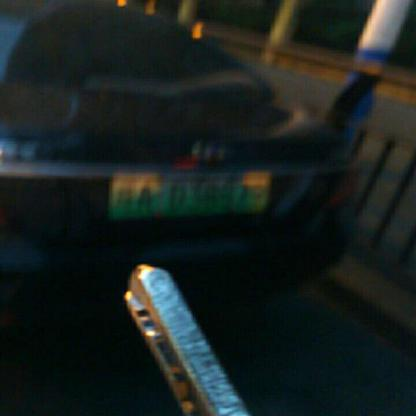lp: (113, 174, 269, 216)
